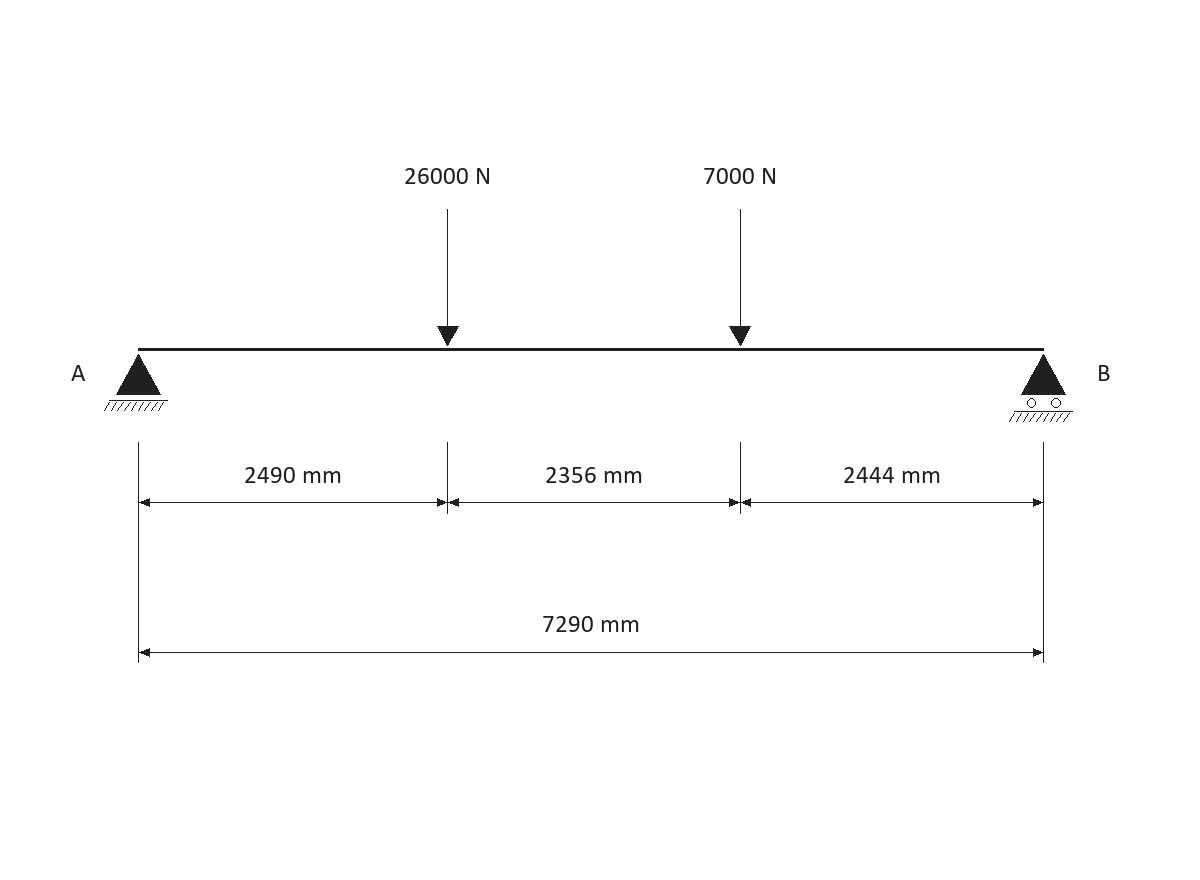pin_support: (104, 354, 168, 411)
point_load: (437, 209, 459, 346), (729, 209, 751, 346)
roller_support: (1009, 354, 1073, 422)
